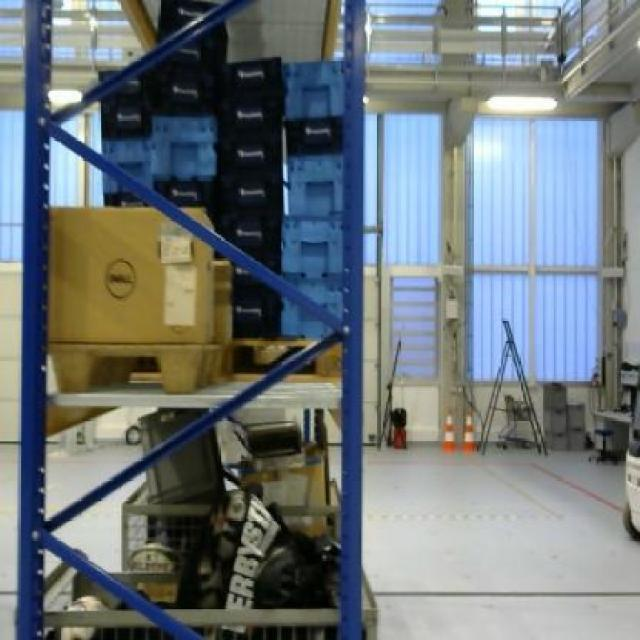box: (48, 203, 216, 342)
